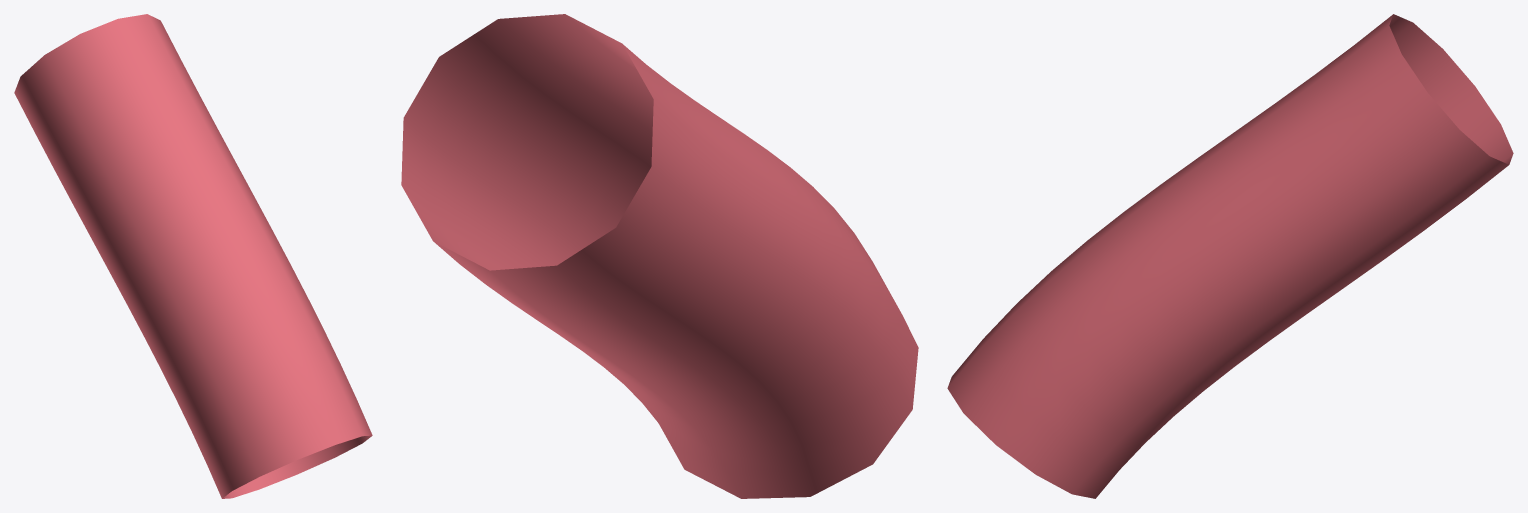
The picture shows the model from 3 angles, left to right: view 1: azimuth 30°, elevation 25°; view 2: azimuth 150°, elevation 25°; view 3: azimuth 270°, elevation 25°; orthographic projection. The views are drawn at different scales.
Parts seen in each view (by area): view 1: ZA_7ec2e908c1efa6fe; view 2: ZA_7ec2e908c1efa6fe; view 3: ZA_7ec2e908c1efa6fe.
Part boxes in pixels (box(x1,y1,x2,y2)): ZA_7ec2e908c1efa6fe: box(14, 14, 372, 498); ZA_7ec2e908c1efa6fe: box(401, 14, 918, 498); ZA_7ec2e908c1efa6fe: box(947, 14, 1513, 498).
Bounding box in the file's own units: 0.00475 × 0.0104 × 0.0118.
